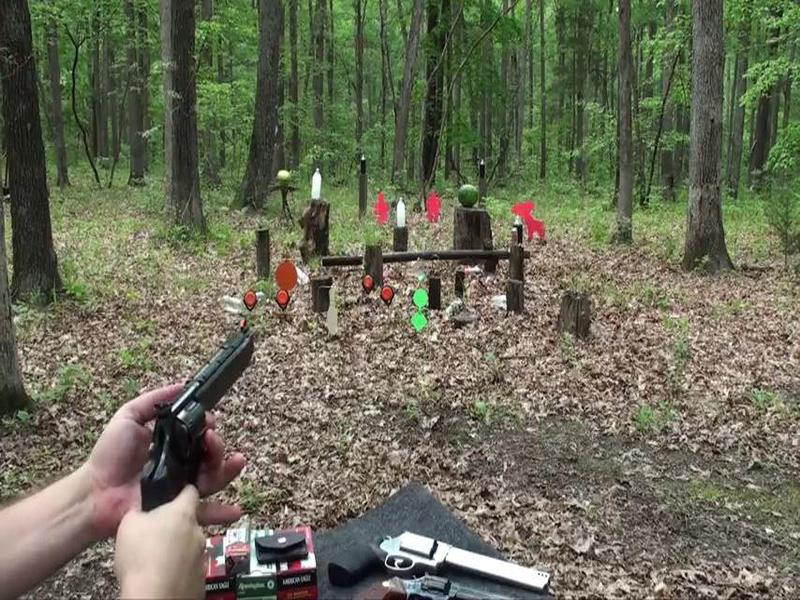Revolver: (124, 320, 269, 531)
